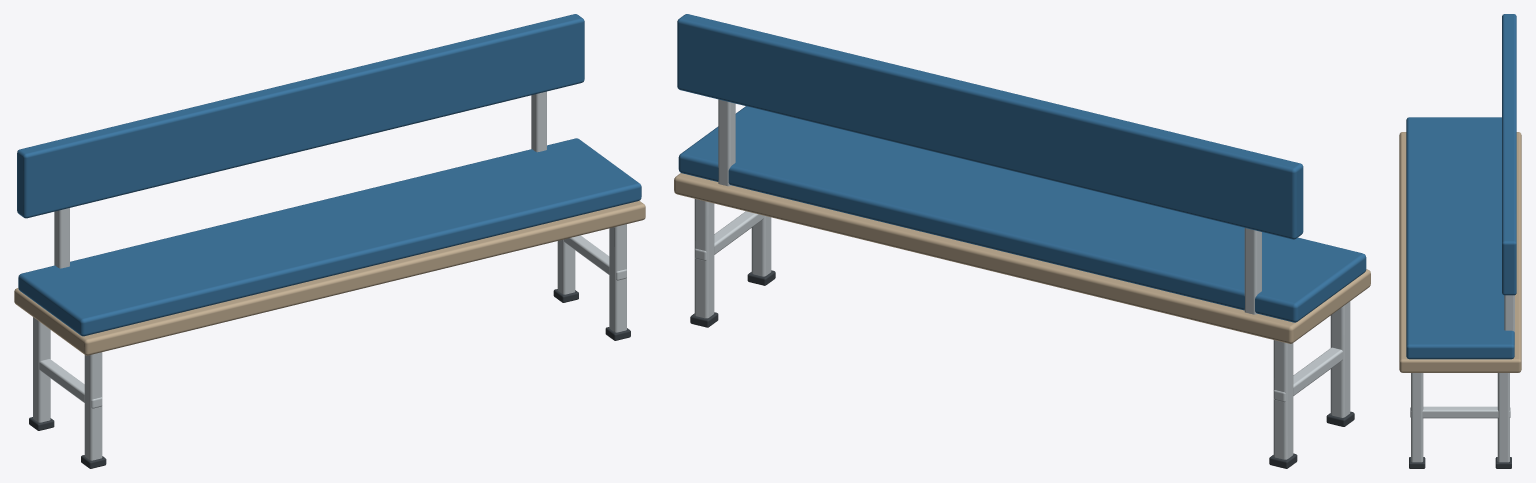
File: fencing-club-and-tournament-piste-spectator-bench-94b29097__31216.glb
The picture shows the model from 3 angles, left to right: view 1: azimuth 30°, elevation 25°; view 2: azimuth 150°, elevation 25°; view 3: azimuth 270°, elevation 25°; orthographic projection. The views are drawn at different scales.
Parts seen in each view (by area): view 1: spectator-bench; view 2: spectator-bench; view 3: spectator-bench.
Part boxes in pixels (x1,y1,x2,y2): spectator-bench: [14, 14, 645, 468]; spectator-bench: [674, 14, 1370, 468]; spectator-bench: [1399, 14, 1521, 468].
Bounding box in the file's own units: 2 × 0.94 × 0.45.
